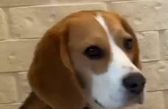Dog: (43, 10, 154, 104)
